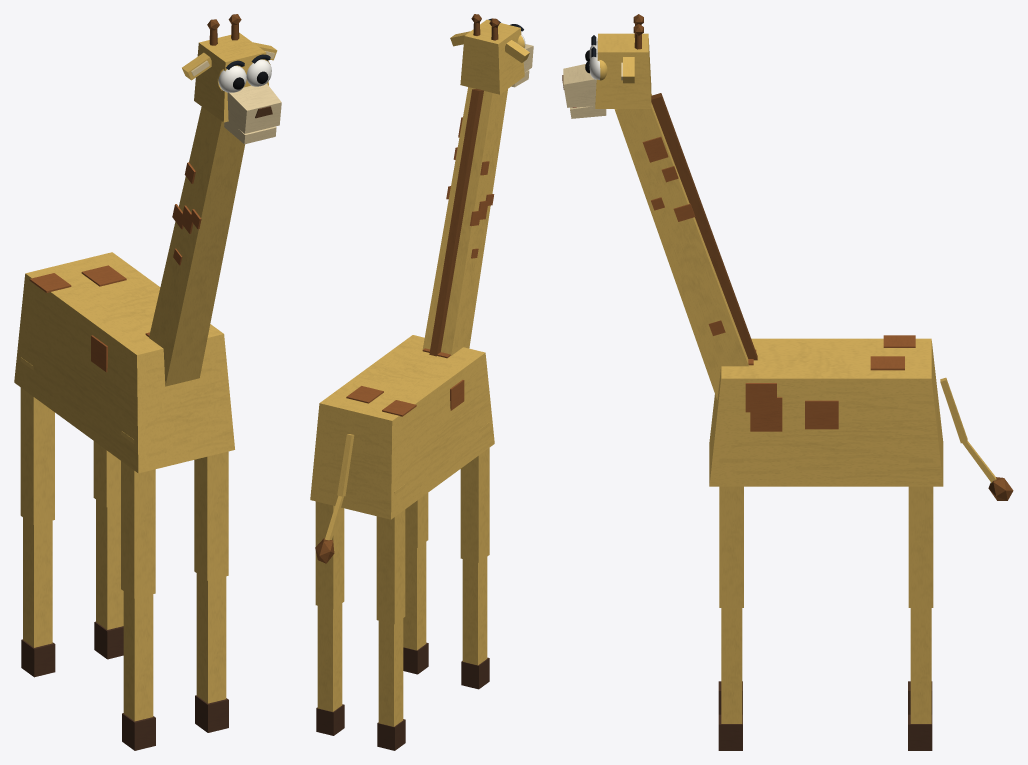
File: giraffe.glb
3 views of the same model, side by side, from view 1: azimuth 30°, elevation 25°; view 2: azimuth 150°, elevation 25°; view 3: azimuth 270°, elevation 25° (orthographic). The views are drawn at different scales.
Visible parts, largest first — view 1: body, neck, head, kneeFR, kneeFL, kneeBR, legFR, legBR, legFL, kneeBL, legBL, jaw (+1 smaller); view 2: body, neck, head, kneeFR, kneeBR, kneeBL, legBR, legFR, kneeFL, legBL, legFL, tail2 (+1 smaller); view 3: body, neck, head, legBL, kneeFL, kneeBL, legFL, tail2.
Part boxes in pixels (x1,y1,x2,y2): body: (14,252,234,473); neck: (149,107,244,386); head: (194,14,281,133); kneeFR: (122,591,155,750); kneeFL: (195,573,228,732); kneeBR: (21,517,55,677); legFR: (121,430,155,598); legBR: (20,357,54,524); legFL: (194,451,228,580); kneeBL: (94,499,123,659); legBL: (93,441,120,506); jaw: (224,121,276,144); body: (310,335,494,519); neck: (423,87,507,356); head: (460,14,533,94); kneeFR: (461,557,489,689); kneeBR: (377,618,405,750); kneeBL: (316,603,344,735); legBR: (376,484,405,624); legFR: (460,422,489,562); kneeFL: (403,542,428,674); legBL: (315,501,344,609); legFL: (405,493,428,547); tail2: (315,495,343,563); body: (709,335,943,486); neck: (614,93,757,399); head: (562,14,651,108); legBL: (908,458,933,607); kneeFL: (718,608,742,750); kneeBL: (908,608,932,750); legFL: (719,458,743,607); tail2: (962,441,1013,500).
Size of the model in its own units: 0.45 by 3.35 by 1.93.
Materials: 21 (18 with a texture image).
